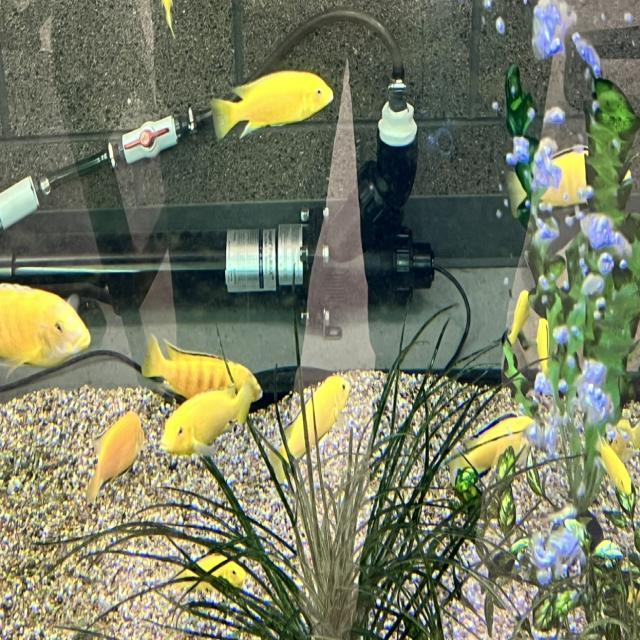YellowCichlid: (0, 272, 100, 380), (204, 66, 335, 144), (274, 364, 352, 456), (141, 330, 251, 395), (81, 402, 144, 508), (156, 400, 254, 460), (469, 402, 536, 479), (178, 550, 255, 596), (550, 142, 592, 214), (600, 437, 630, 499), (511, 279, 530, 357), (536, 311, 552, 364)
